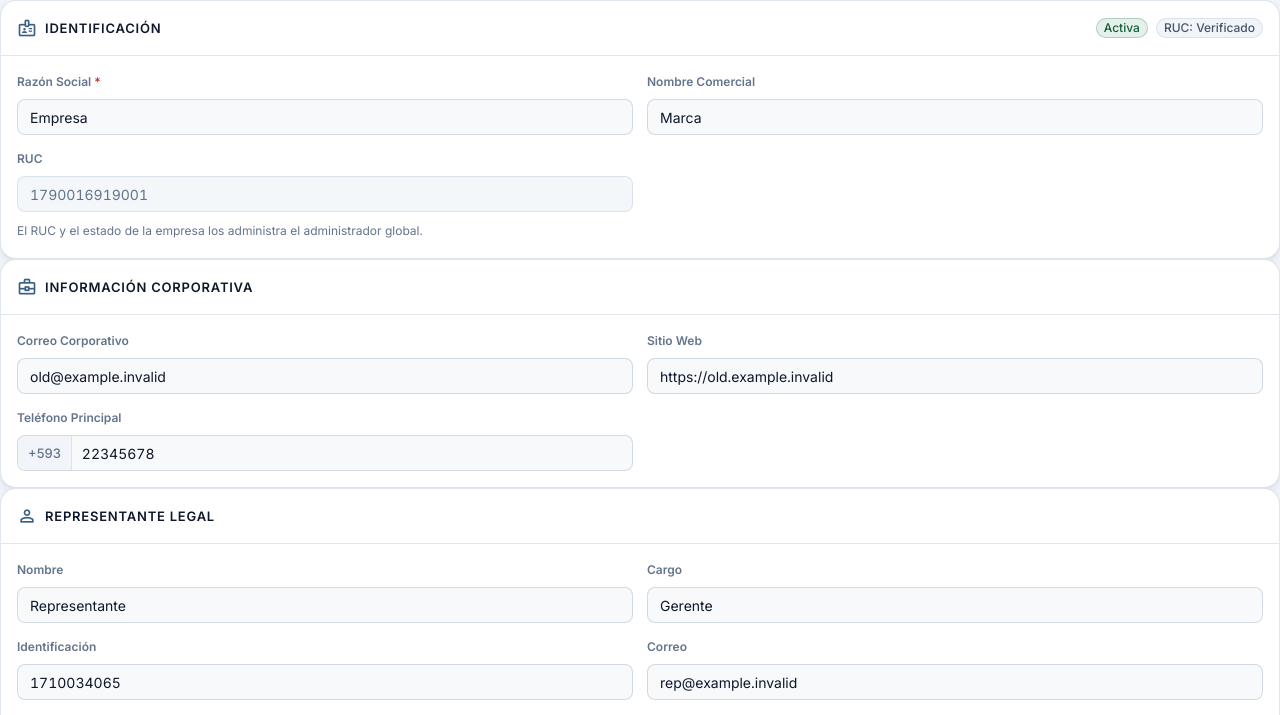
Test case: un correo inválido bloquea el envío sin cambiar lo guardado
Replace the text in the field showing "old@example.invalid" with "invalido": (325, 376) [17,358,633,394]
(page scrolled)
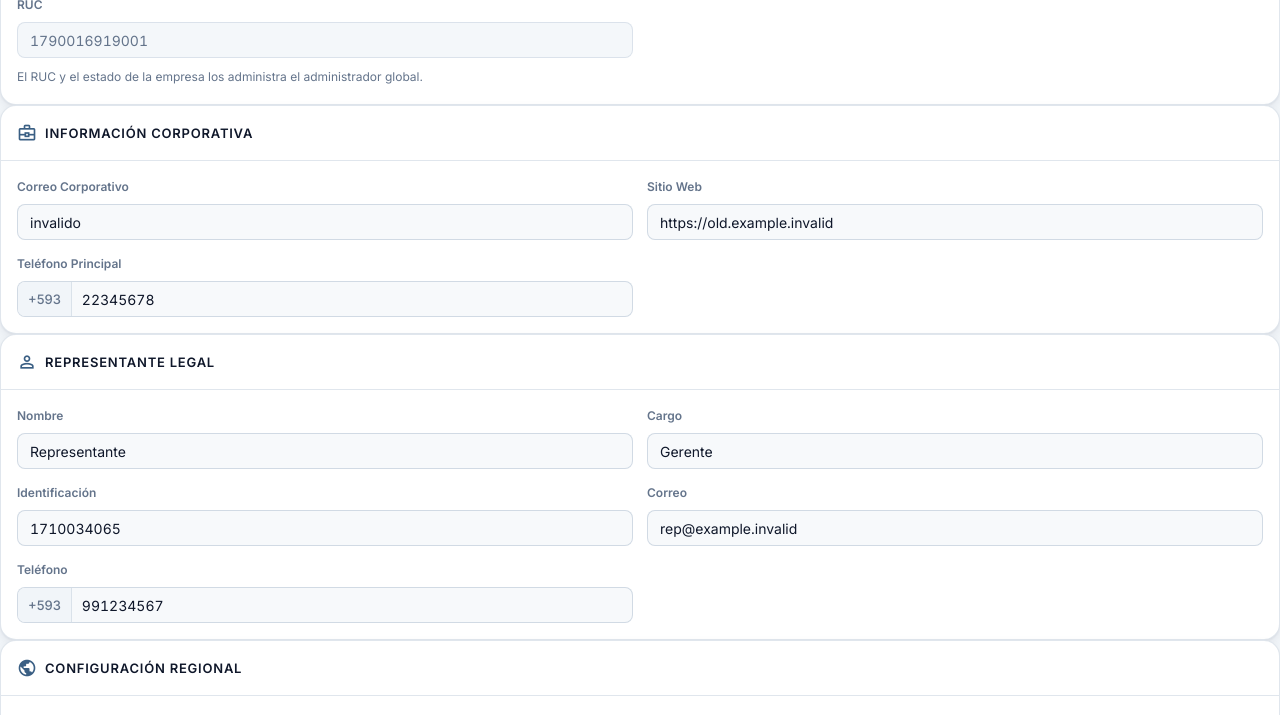
Submit the form
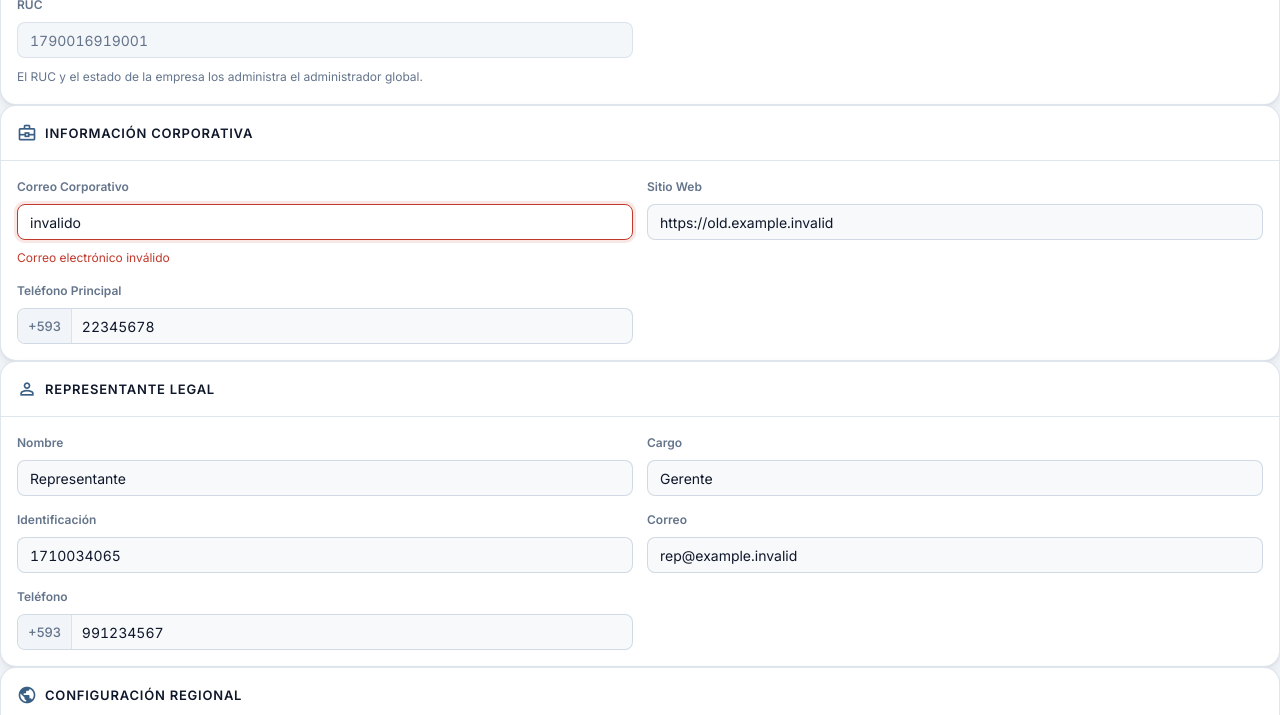
Now the text "Correo electrónico inválido" is shown, box [17,250,170,265]
